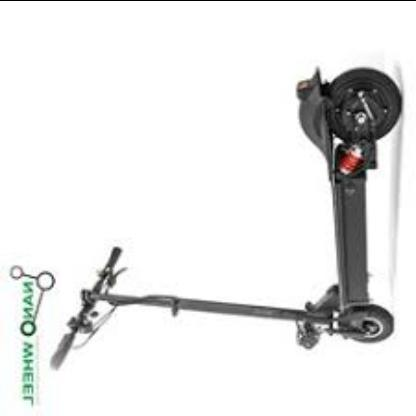bike: (291, 65, 404, 344)
